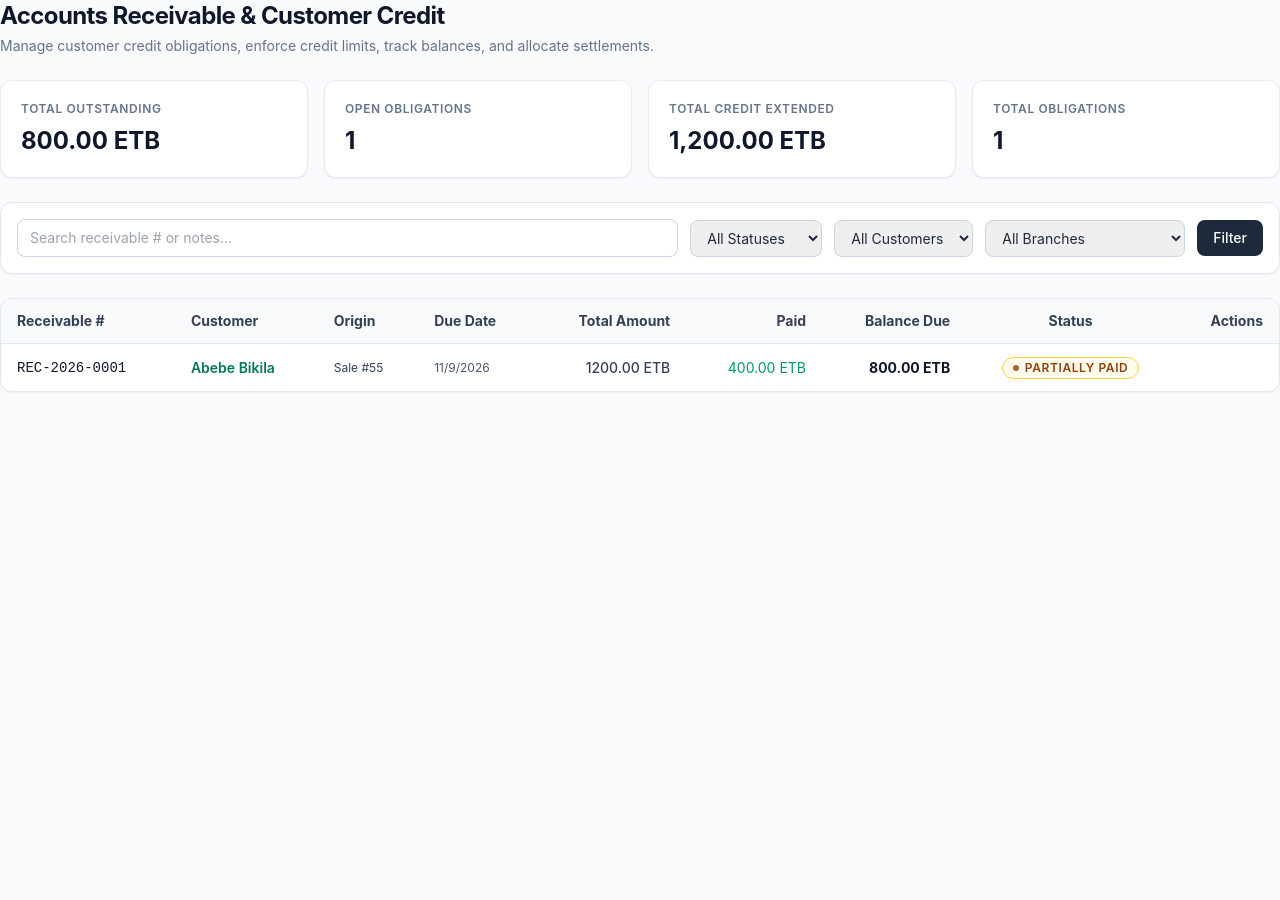
Scenario: Task 13 — Frontend Finance, Payments & Receivables › ReceivablesPage: renders receivables directory, balance due, and customer profile modal
Check: the heading "Accounts Receivable & Customer Credit" is shown, box [0, 1, 445, 30]
Check: the text "REC-2026-0001" is shown, box [1, 344, 175, 391]
// Click customer name to open profile summary
Click the button "Abebe Bikila". click: x=233, y=368
box: [191, 358, 275, 378]
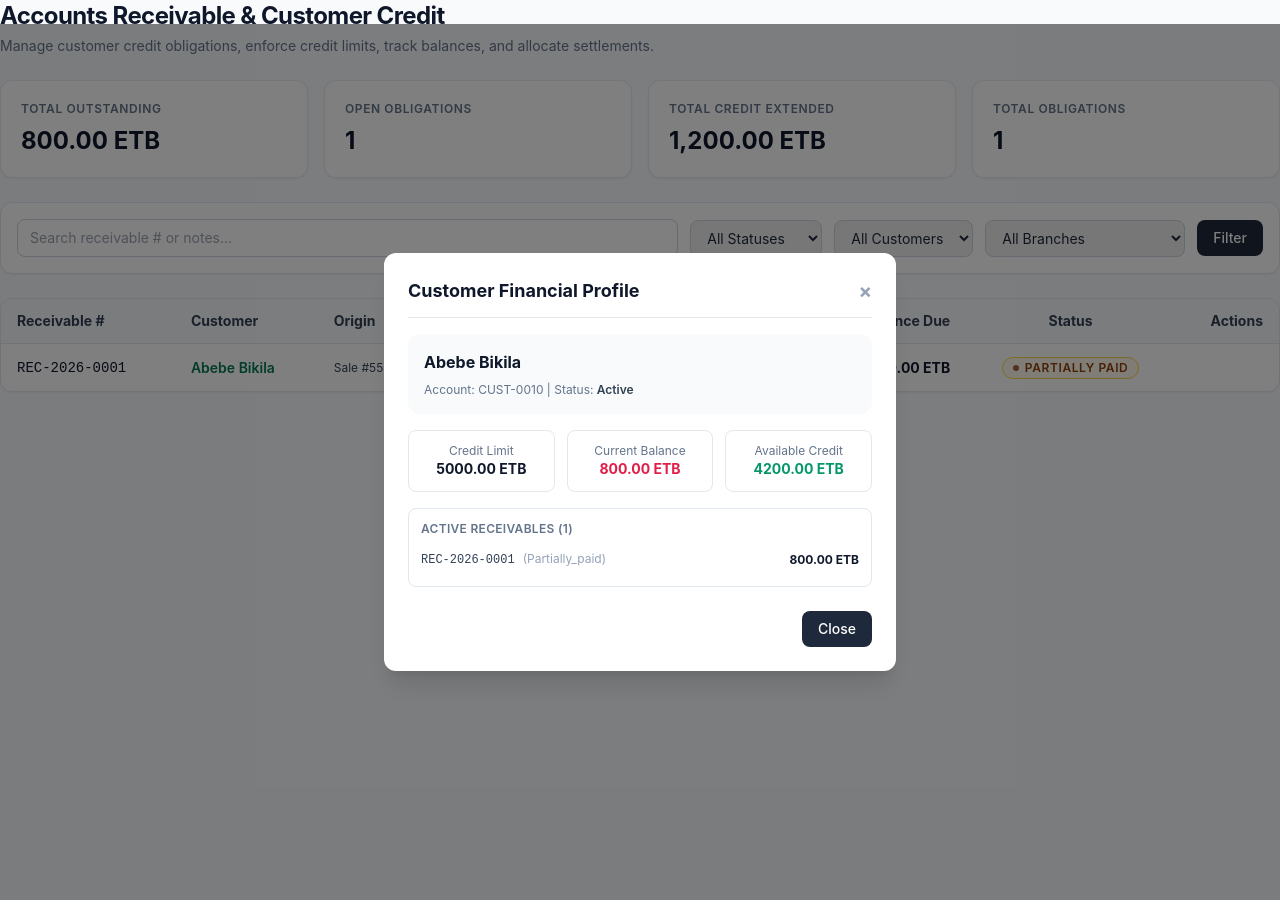
Check: the heading "Customer Financial Profile" is shown, box [408, 277, 640, 305]
Check: the text "Available Credit" is shown, box [754, 443, 843, 458]
Check: the text "4200.00 ETB" is shown, box [754, 460, 844, 477]
